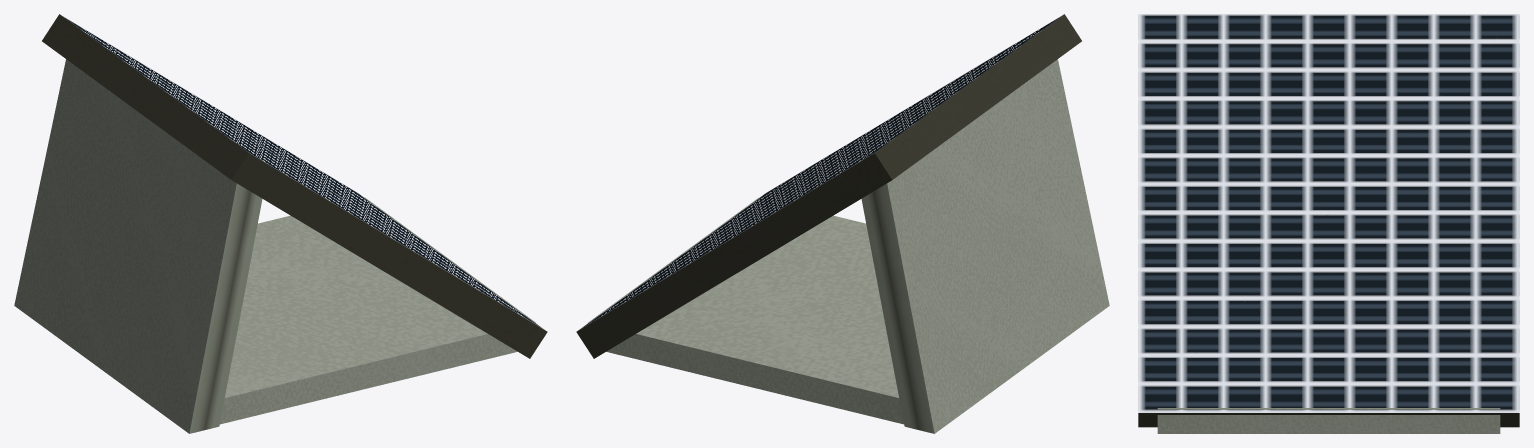
The model's file is RampObjSolar.fbx.
3 renders of one model, left to right at view 1: azimuth 30°, elevation 25°; view 2: azimuth 150°, elevation 25°; view 3: azimuth 270°, elevation 25°, orthographic.
Visible parts, largest first — view 1: Ramp3 (Solar Panel); view 2: Ramp3 (Solar Panel); view 3: Ramp3 (Solar Panel).
Boxes of the visible parts, <box> form: Ramp3 (Solar Panel): <box>14,14,547,433</box>; Ramp3 (Solar Panel): <box>576,14,1109,433</box>; Ramp3 (Solar Panel): <box>1138,14,1519,433</box>.
Bounding box in the file's own units: 76.38 × 57.09 × 71.58.
